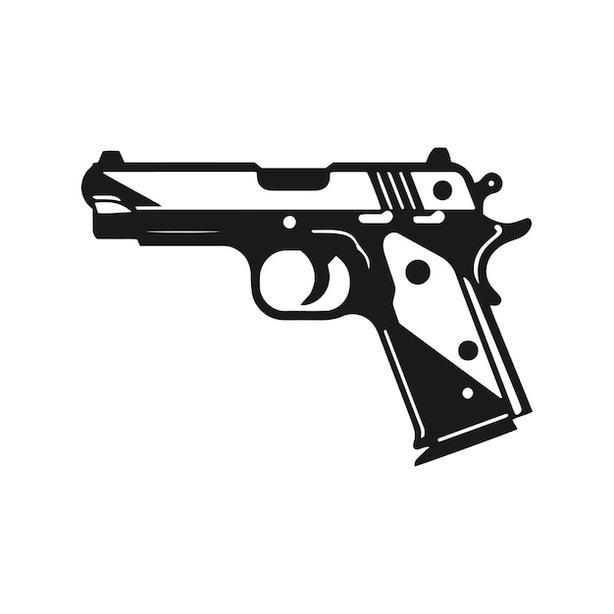Firearm: (71, 140, 547, 479)
